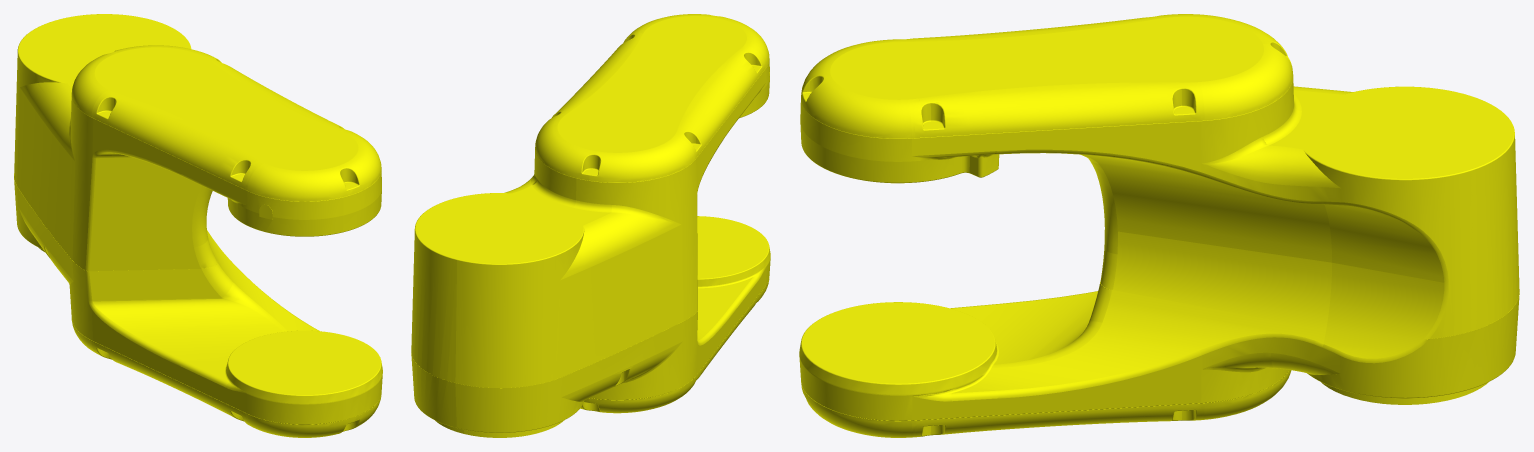
3 renders of one model, left to right at view 1: azimuth 30°, elevation 25°; view 2: azimuth 150°, elevation 25°; view 3: azimuth 270°, elevation 25°, orthographic. The views are drawn at different scales.
Visible parts, largest first — view 1: Mesh_0; view 2: Mesh_0; view 3: Mesh_0.
Part boxes in pixels (<box>): Mesh_0: <box>14,14,382,437</box>; Mesh_0: <box>411,14,770,437</box>; Mesh_0: <box>799,14,1519,437</box>.
Bounding box in the file's own units: 0.1424 × 0.19 × 0.3698.
